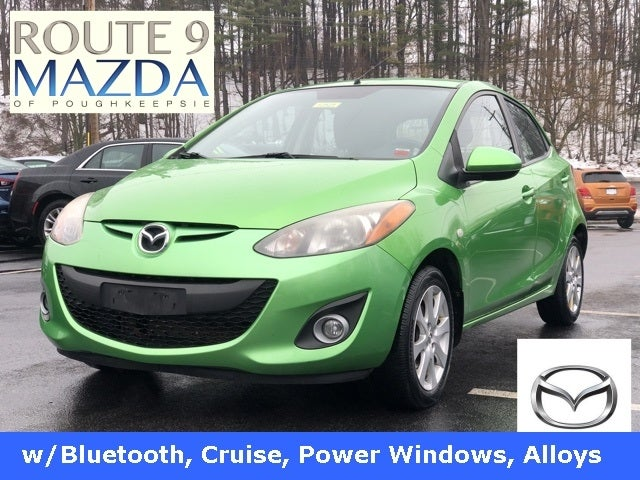Mazda3 Hatchback: (35, 73, 595, 415)
